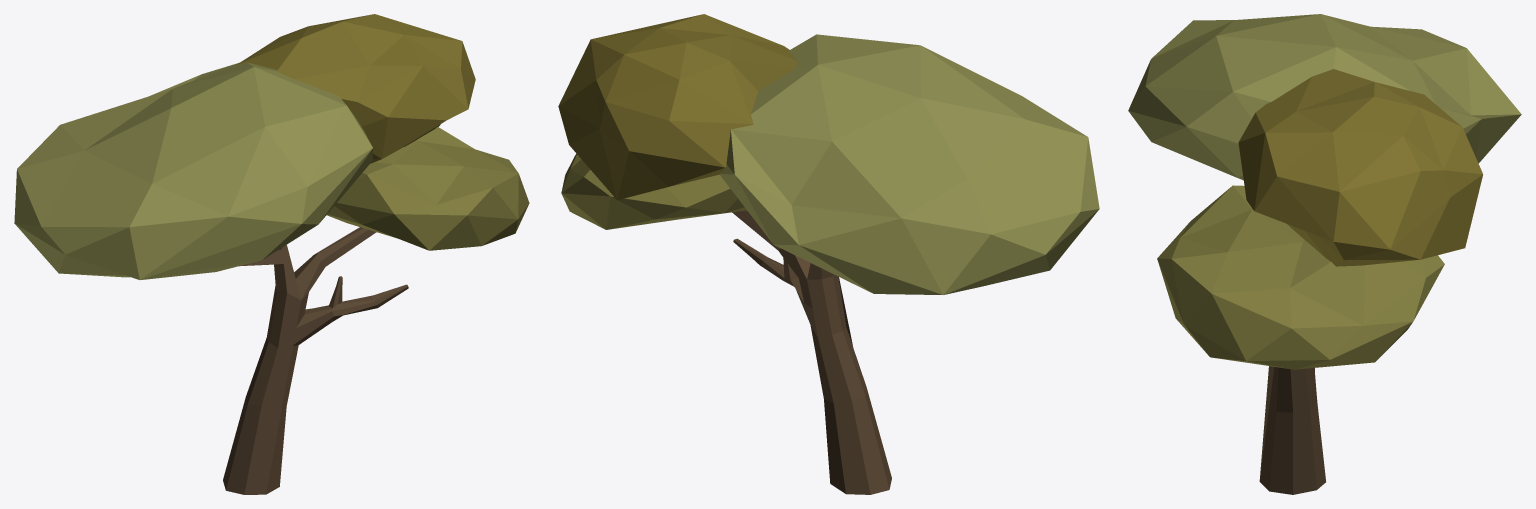
The model's file is enchantedforest_tree_2.fbx.
3 views of the same model, side by side, from view 1: azimuth 30°, elevation 25°; view 2: azimuth 150°, elevation 25°; view 3: azimuth 270°, elevation 25° (orthographic). The views are drawn at different scales.
Parts seen in each view (by area): view 1: Icosphere.011, Cylinder.007; view 2: Icosphere.011, Cylinder.007; view 3: Icosphere.011, Cylinder.007.
Boxes of the visible parts, <box> form: Icosphere.011: <box>14,14,529,279</box>; Cylinder.007: <box>223,227,408,494</box>; Icosphere.011: <box>558,14,1099,294</box>; Cylinder.007: <box>732,210,891,494</box>; Icosphere.011: <box>1128,14,1521,369</box>; Cylinder.007: <box>1259,366,1325,494</box>.
Bounding box in the file's own units: 11.52 × 9.57 × 7.49.
